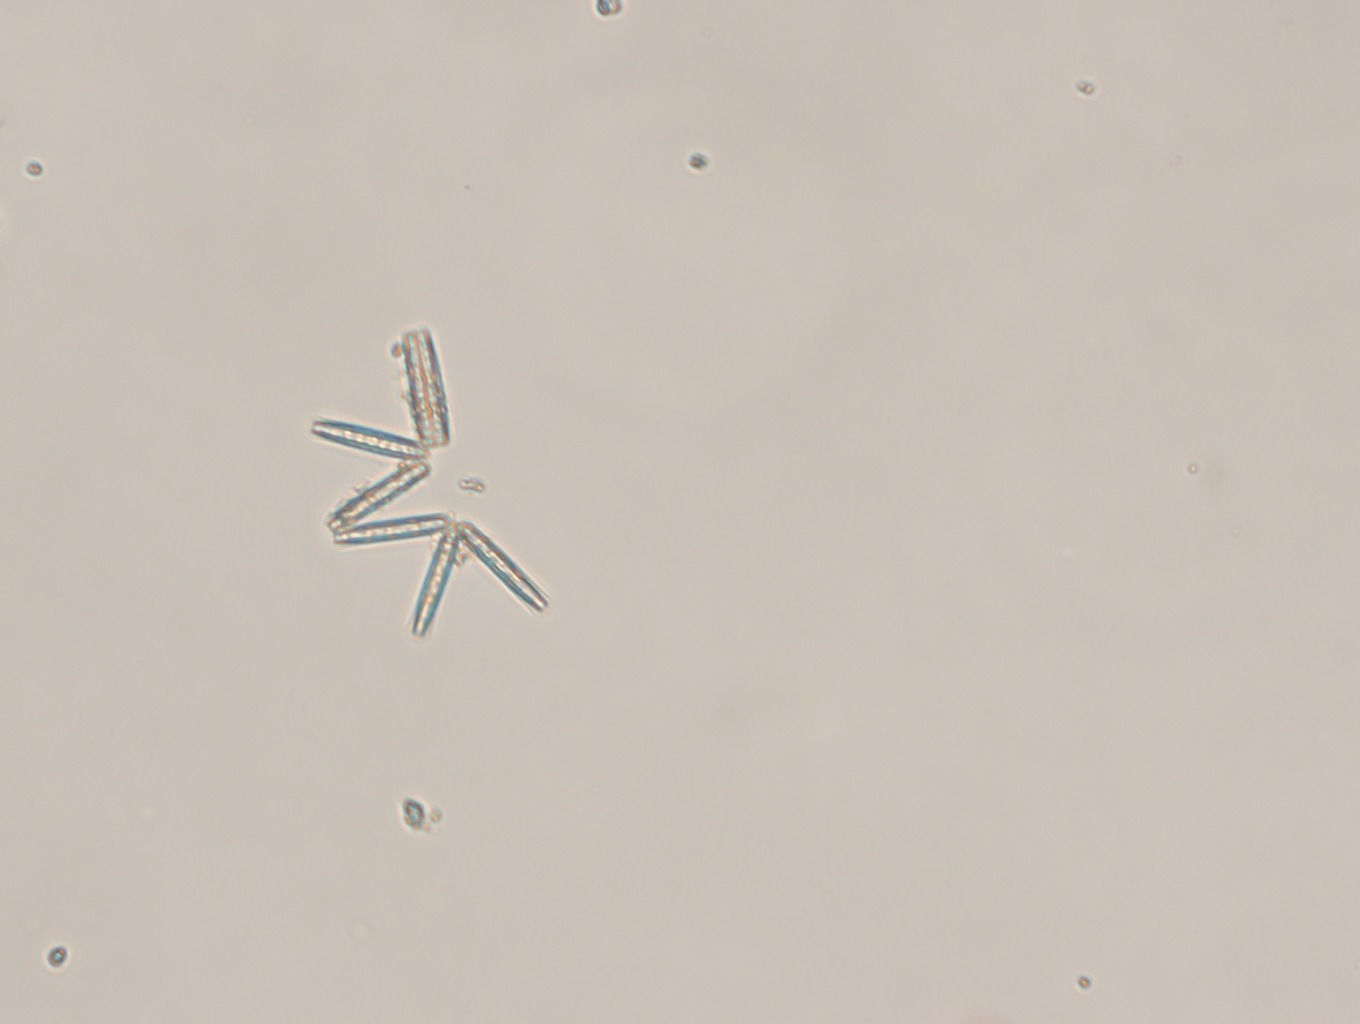thalassionema nitzschioides: (301, 312, 549, 641)
